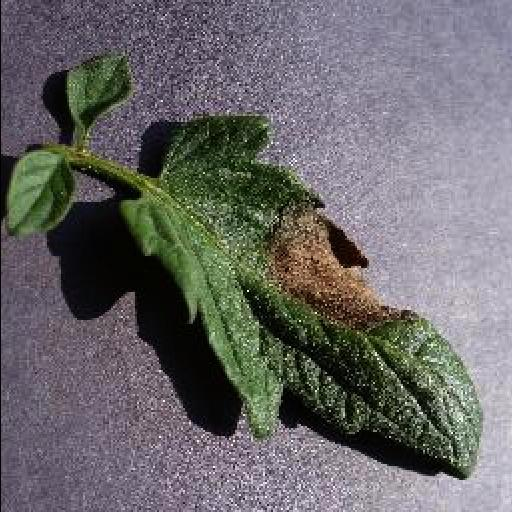disease_tomato: (118, 118, 482, 478)
